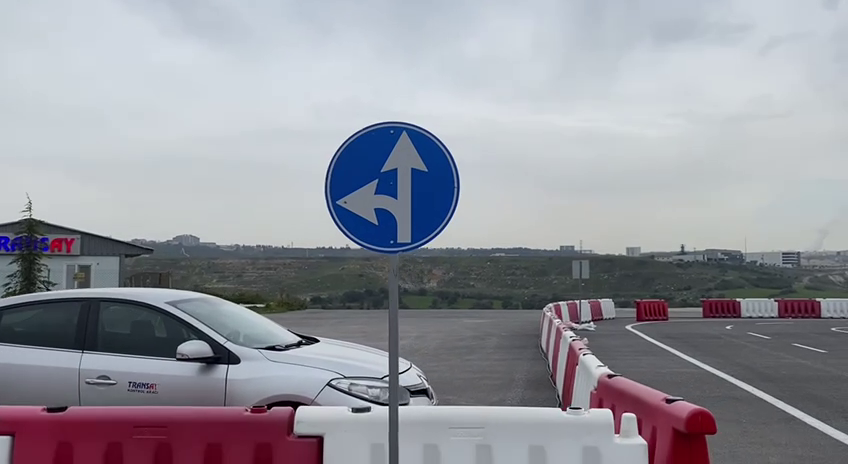forwardAndLeft: (323, 119, 463, 255)
